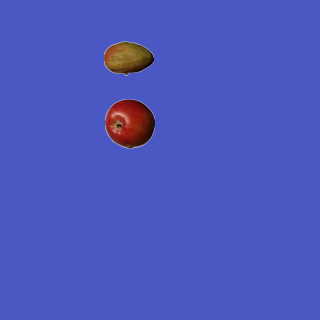Apple Braeburn: (104, 98, 154, 148)
Papaya: (103, 33, 153, 83)
